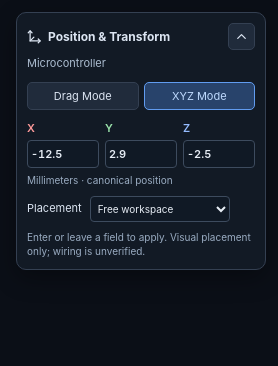
Test: keeps live canonical fields visible in Drag Mode and enforces board constraints
The width and height of the screenshot is (278, 366).
Click the button "Drag Mode": (83, 96) [27,82,138,110]
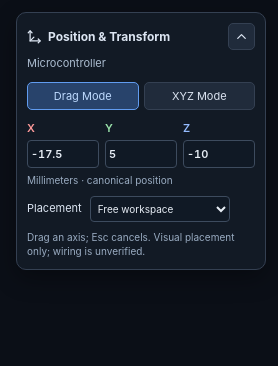
Expected: the number field named "X position (mm)" is enabled, [27,140,99,168]
Result: the number field named "X position (mm)" holds "-17.5" at [27,140,99,168]
Result: the number field named "Y position (mm)" holds "5" at [105,140,177,168]
Click the button "XYZ Mode": (199, 96) [144,82,255,110]
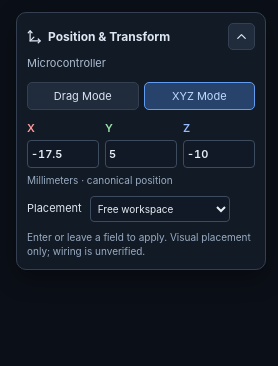
Select "Within PCB bounds" in the dropdown named "Placement constraints": (160, 208) [90,196,230,222]
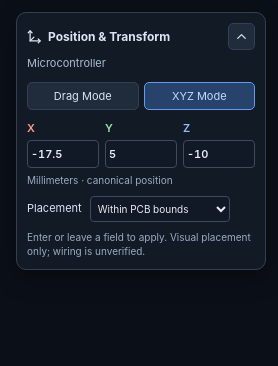
Replace the text in the number field named "X position (mm)" with "100": (63, 154) [27,140,99,168]
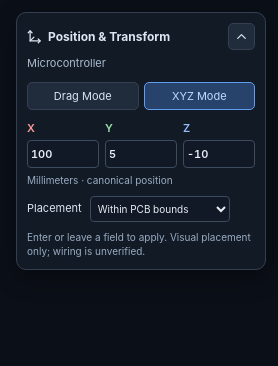
Leave the number field named "X position (mm)", box [27,140,99,168]
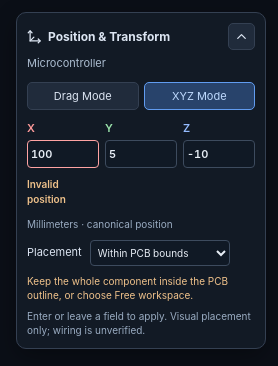
Result: the text "Keep the whole component inside the PCB outline, or choose Free workspace." is shown at [27,274,255,302]
